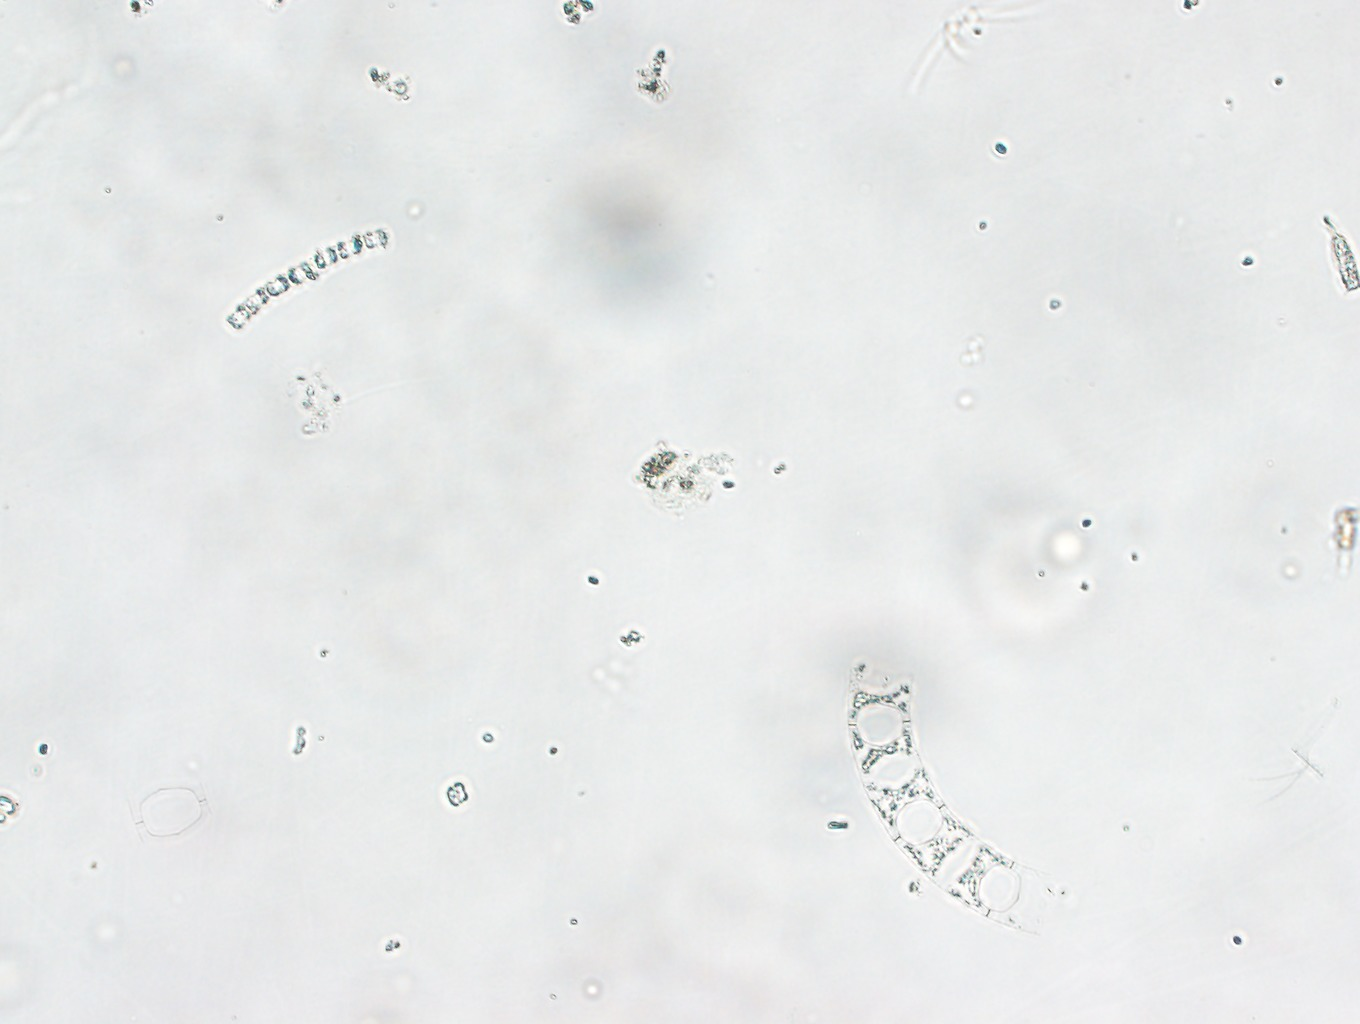eucampia: (838, 666, 1044, 943)
